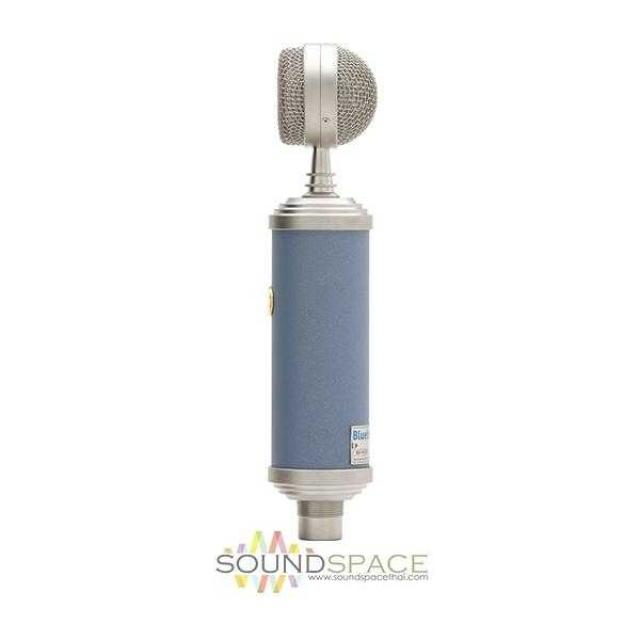microphone: (268, 45, 382, 524), (276, 43, 374, 205)
